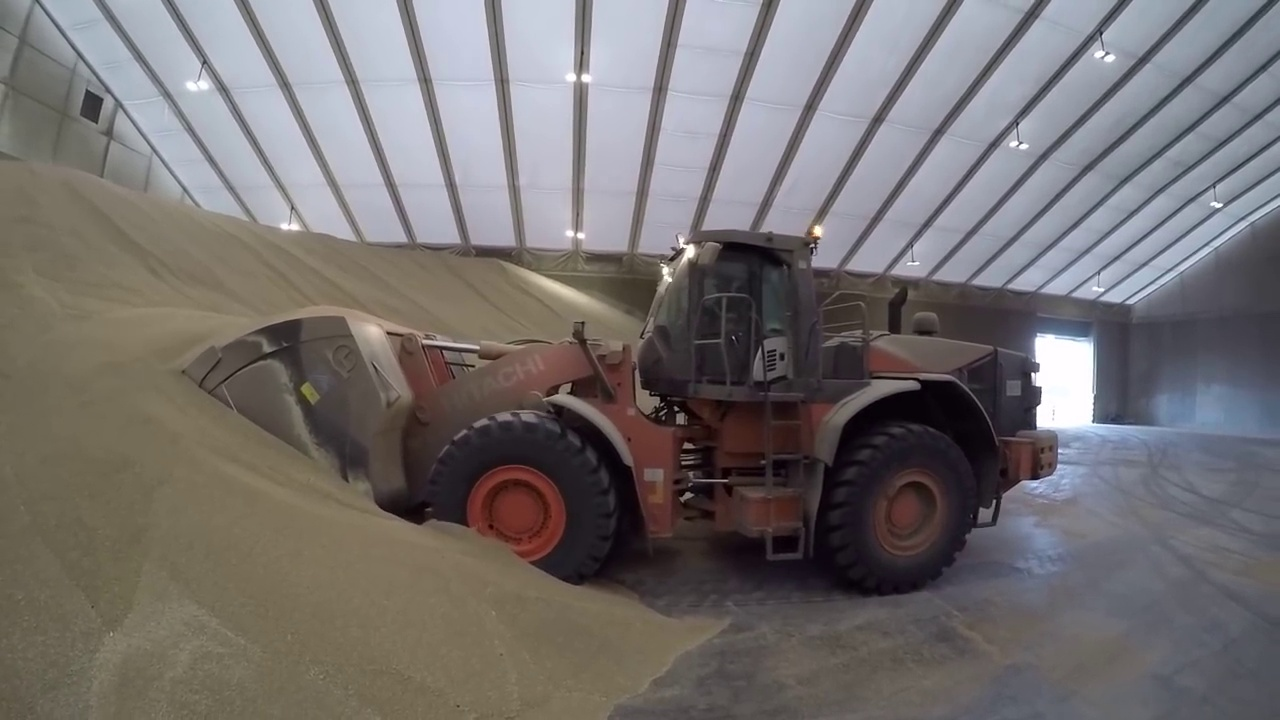wheel loader: (184, 227, 1060, 598)
